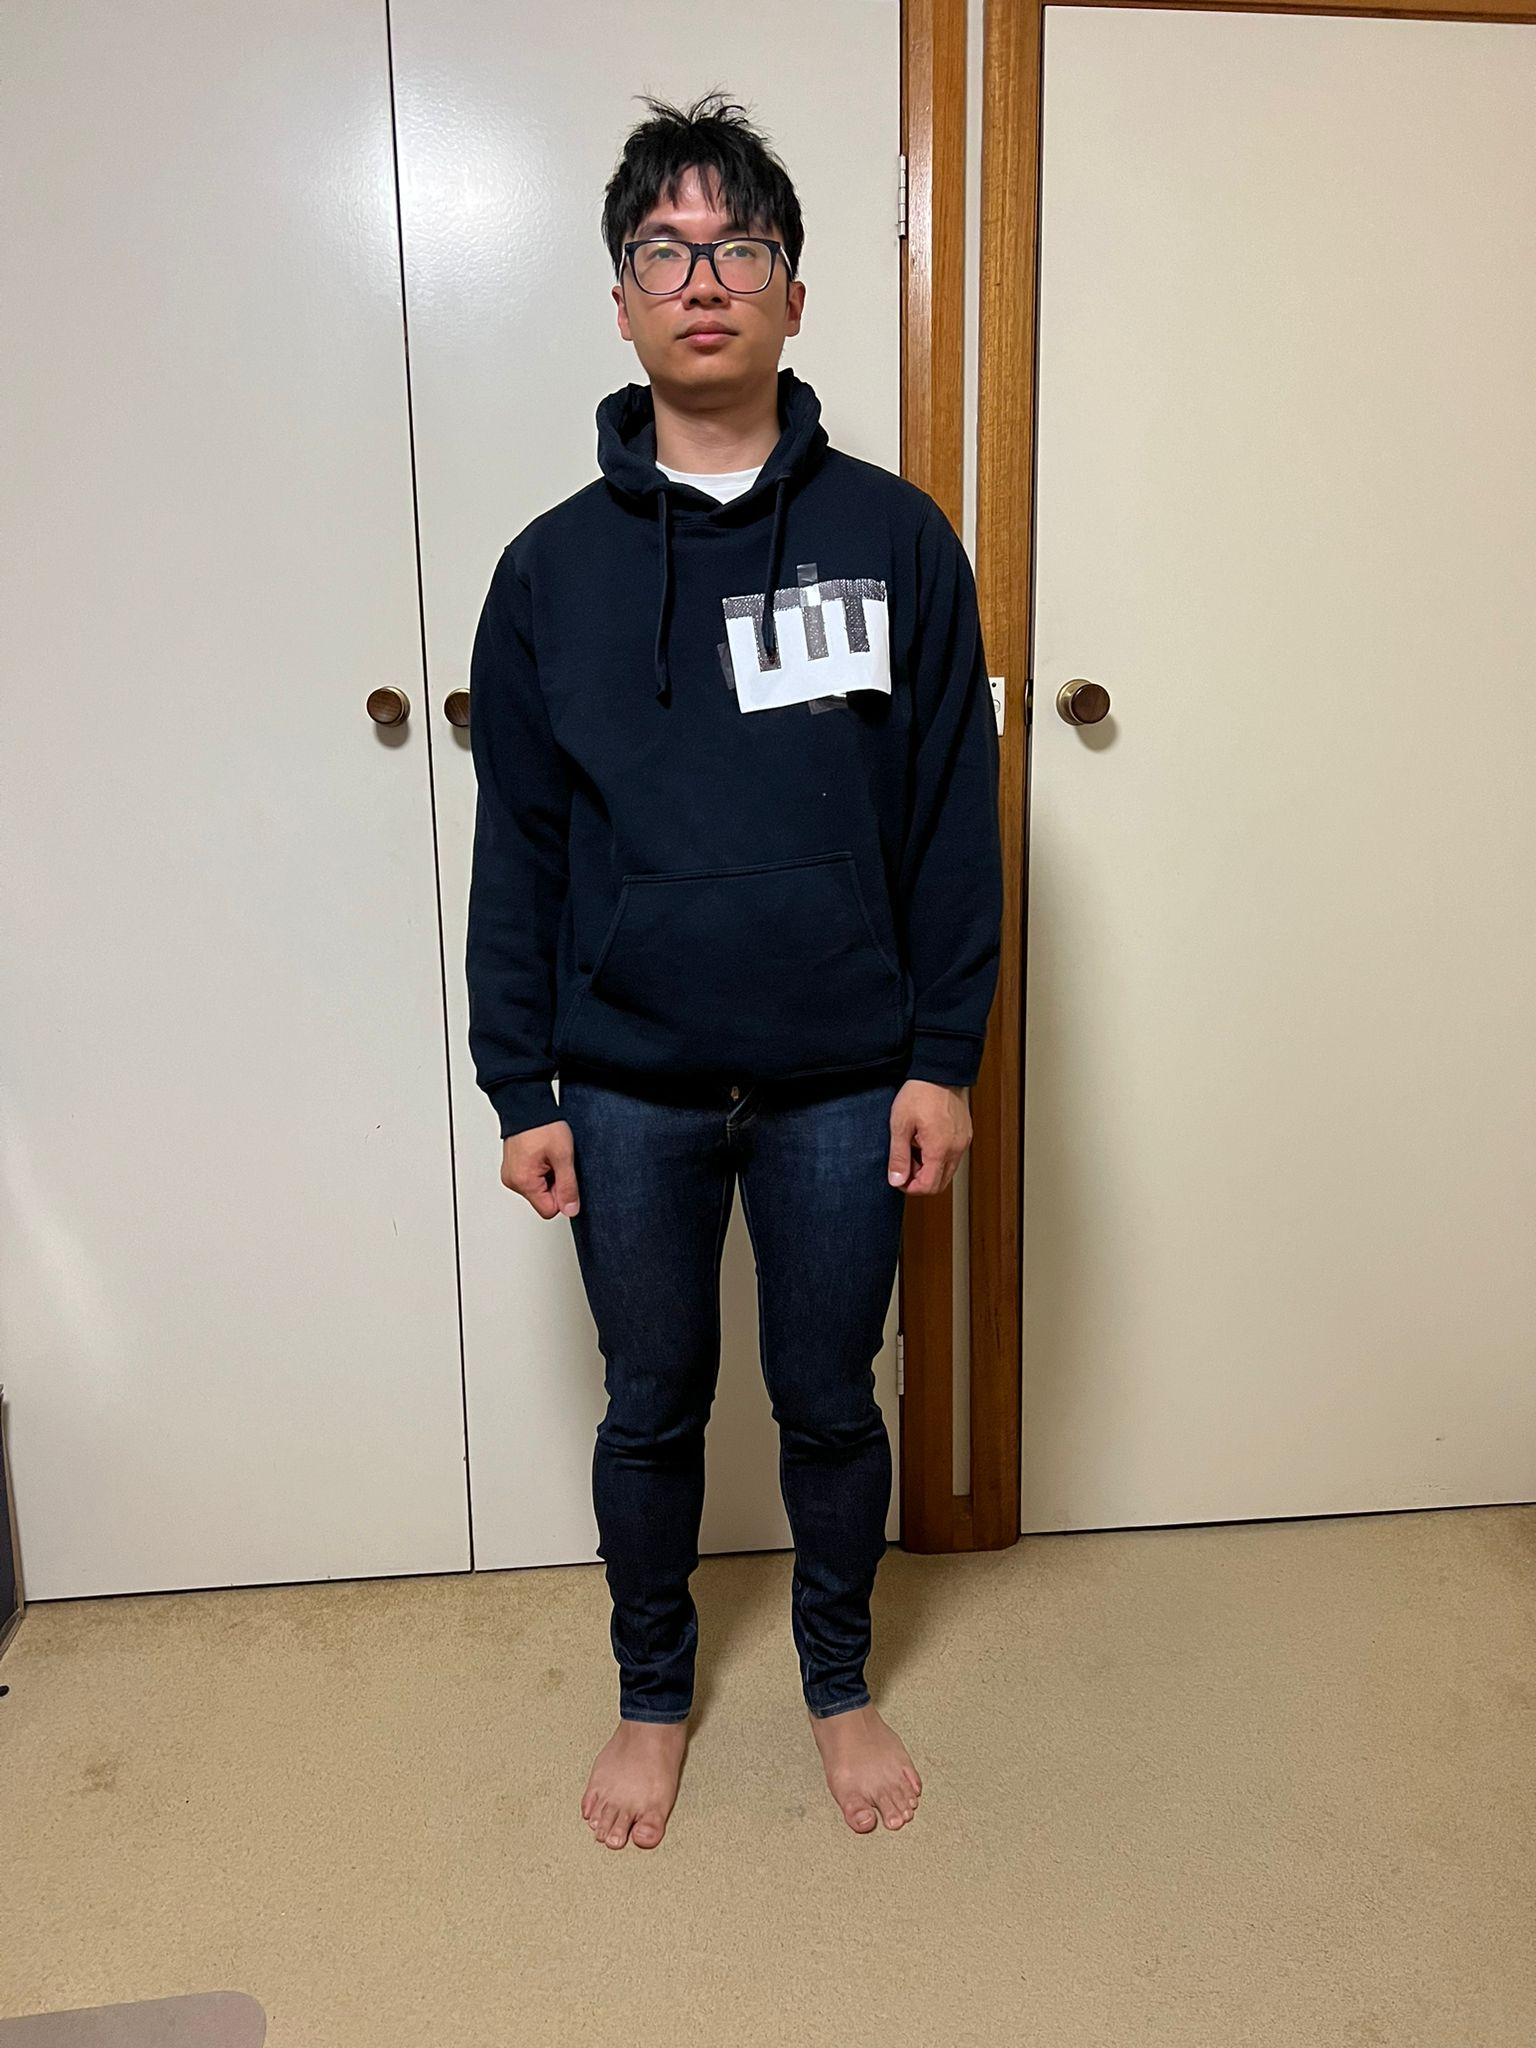Staff: (466, 103, 999, 1856)
